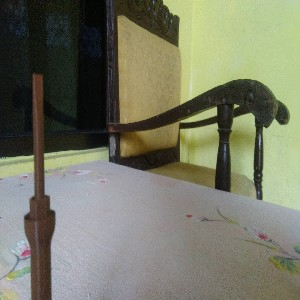obeng: (23, 72, 56, 300)
